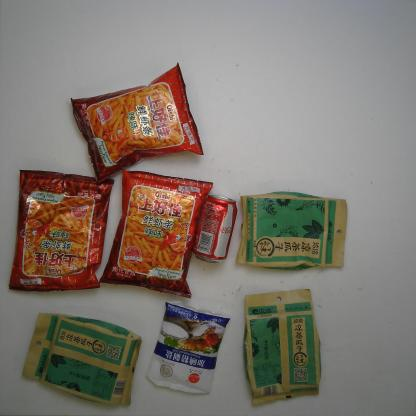Dried Food: (21, 312, 143, 406), (242, 289, 323, 404), (235, 192, 348, 272)
Drink: (193, 192, 238, 264)
Puffed Food: (70, 61, 205, 182), (97, 167, 214, 300), (7, 168, 115, 294)
Seasoner: (146, 301, 231, 395)
